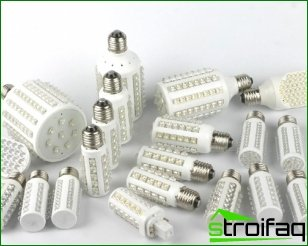Light_bulb: (1, 72, 87, 160), (153, 65, 257, 121), (127, 162, 203, 212), (154, 115, 234, 152), (77, 122, 115, 198), (245, 161, 286, 220), (233, 104, 269, 166), (49, 164, 84, 226), (275, 111, 307, 172), (20, 168, 48, 232), (284, 167, 308, 229)
